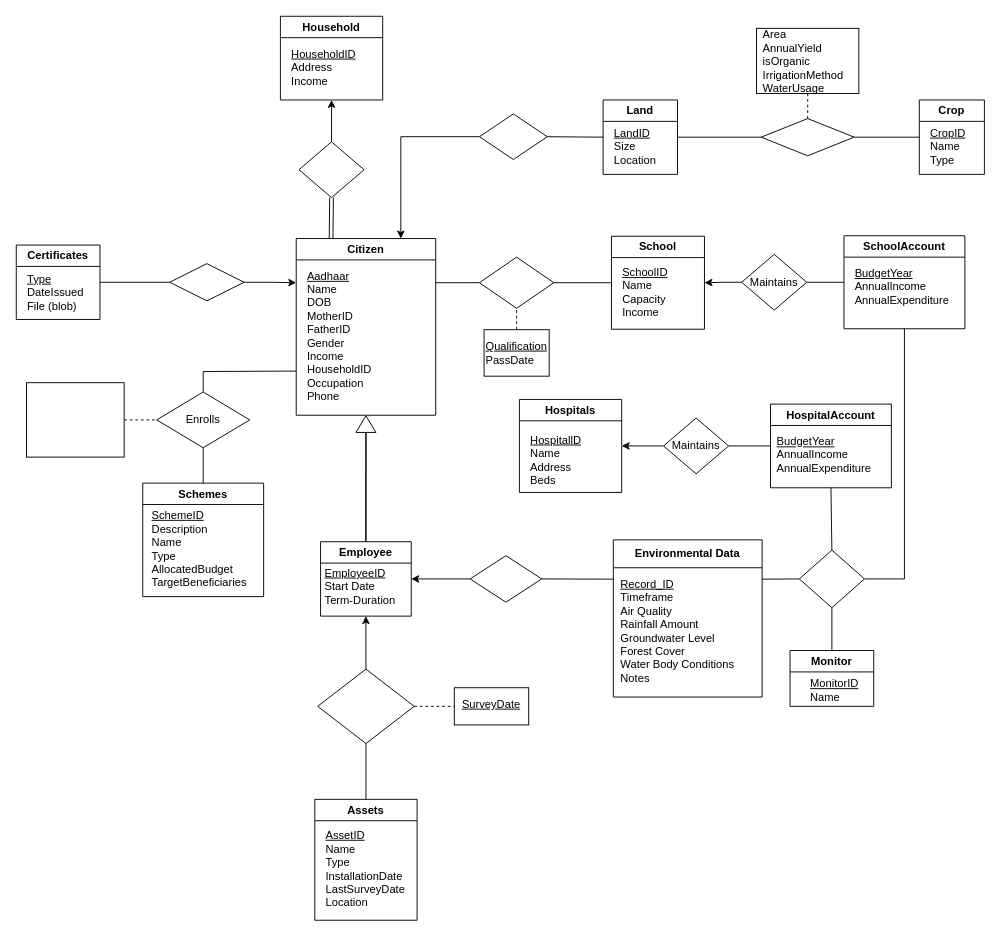
The diagram is 1001 pixels wide and 937 high, and some of its shapes have lost their labels. The shapes that lost their labels are listed below. From the top down, each one's centre as x and y in pixels, then its label:
At pixel 512 136: "Owns".
At pixel 807 137: "LandCrop".
At pixel 331 169: "Belongs To".
At pixel 206 282: "Holds".
At pixel 516 282: "Attends".
At pixel 75 419: "Date Status BenefitsReceived LastBenefitDate".
At pixel 505 578: "Records".
At pixel 831 578: "Tracks".
At pixel 365 706: "Surveys".
